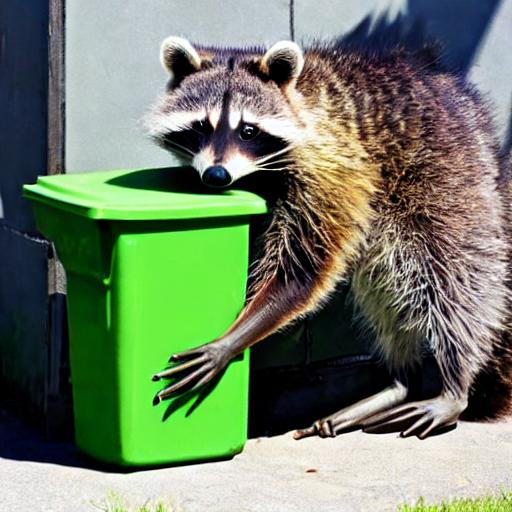raccoon: (142, 28, 512, 363)
